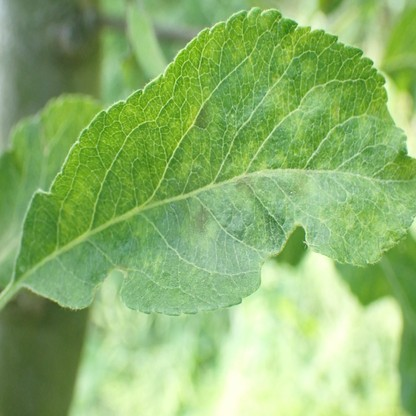scab: (183, 196, 218, 243), (278, 171, 310, 200), (197, 104, 211, 130), (235, 175, 254, 192), (333, 97, 338, 122)
